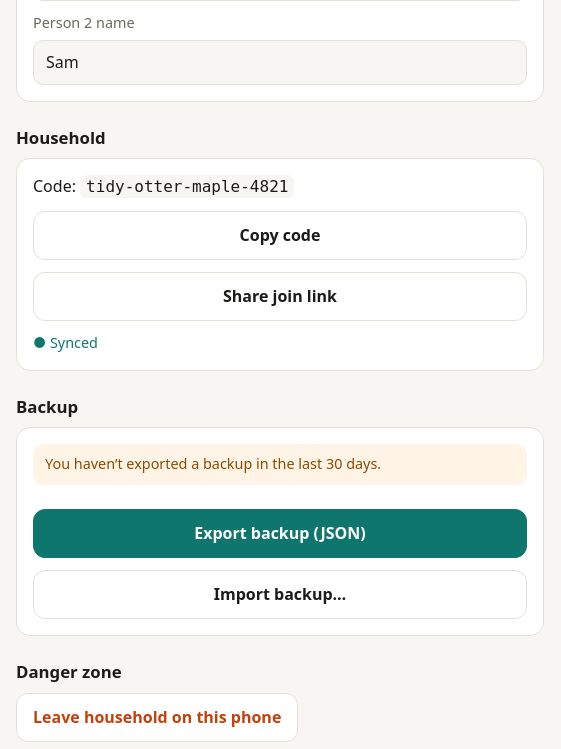
it: a cancelled export share does not record lastExportAt
(page scrolled)
Click the button "Export backup (JSON)" at (280, 534), box [33,509,527,558]
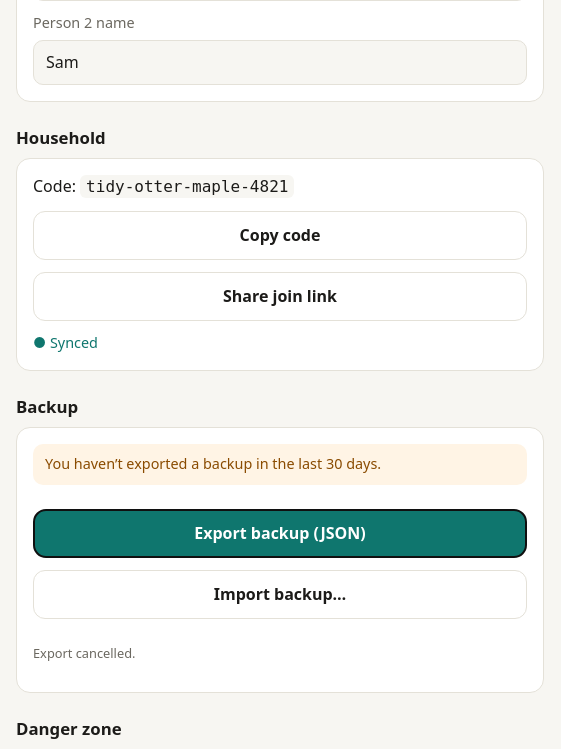
Expected: the text "Export cancelled." is shown, [33,644,136,662]
